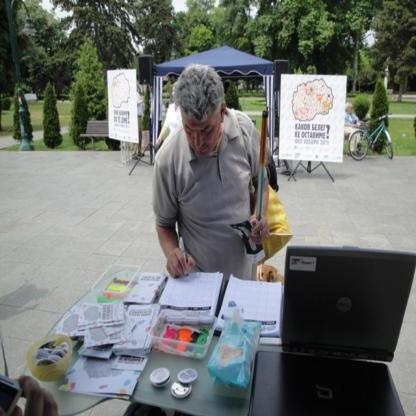board: (284, 246, 416, 364), (250, 351, 404, 415), (208, 314, 262, 386)
